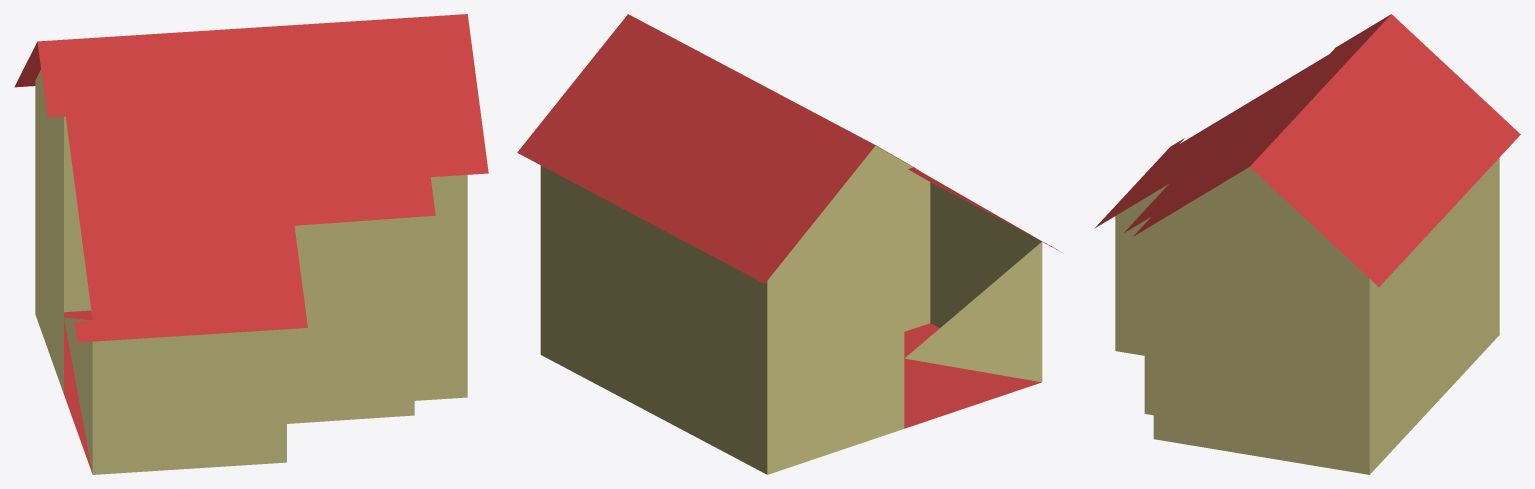
3 views of the same model, side by side, from view 1: azimuth 30°, elevation 25°; view 2: azimuth 150°, elevation 25°; view 3: azimuth 270°, elevation 25° (orthographic). The views are drawn at different scales.
Size of the model in its own units: 22.73 by 19.43 by 14.85.
